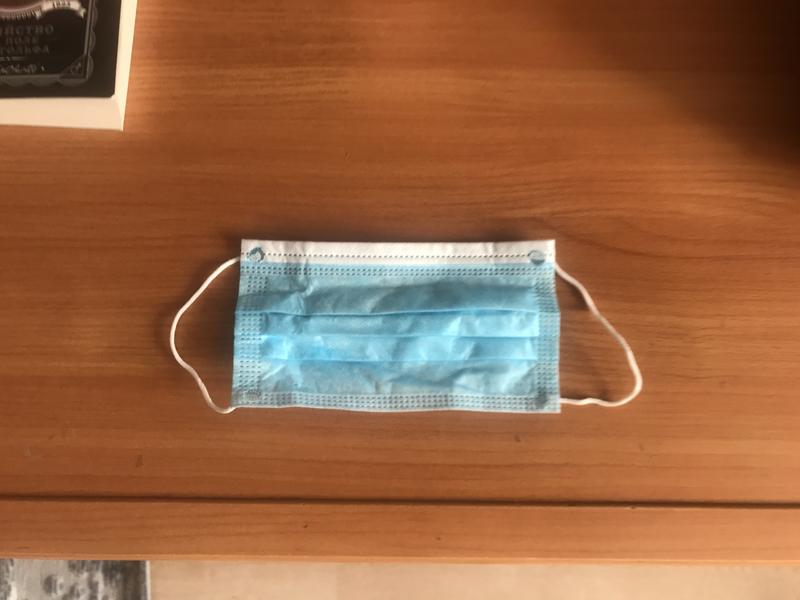medical_mask: (165, 237, 643, 419)
